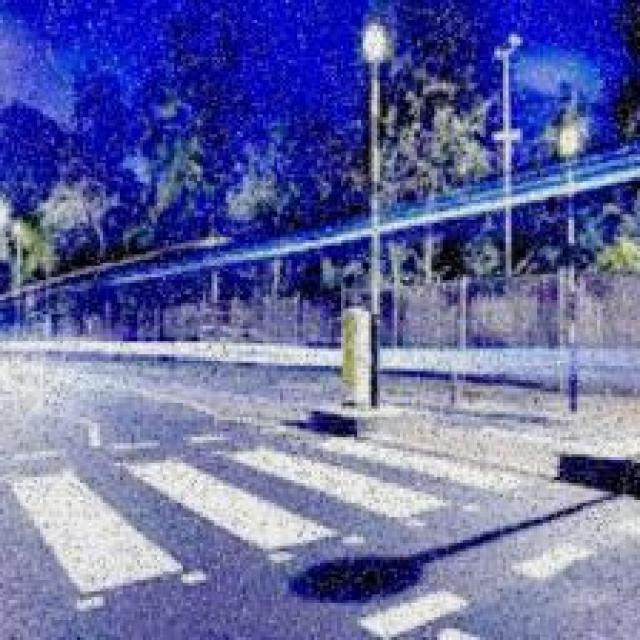crosswalk: (14, 433, 540, 616)
